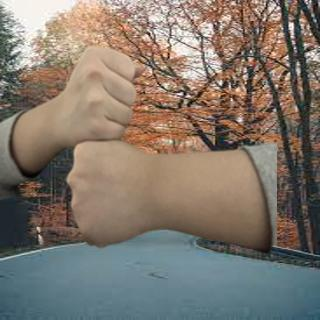CAREFUL: (32, 45, 241, 245)
